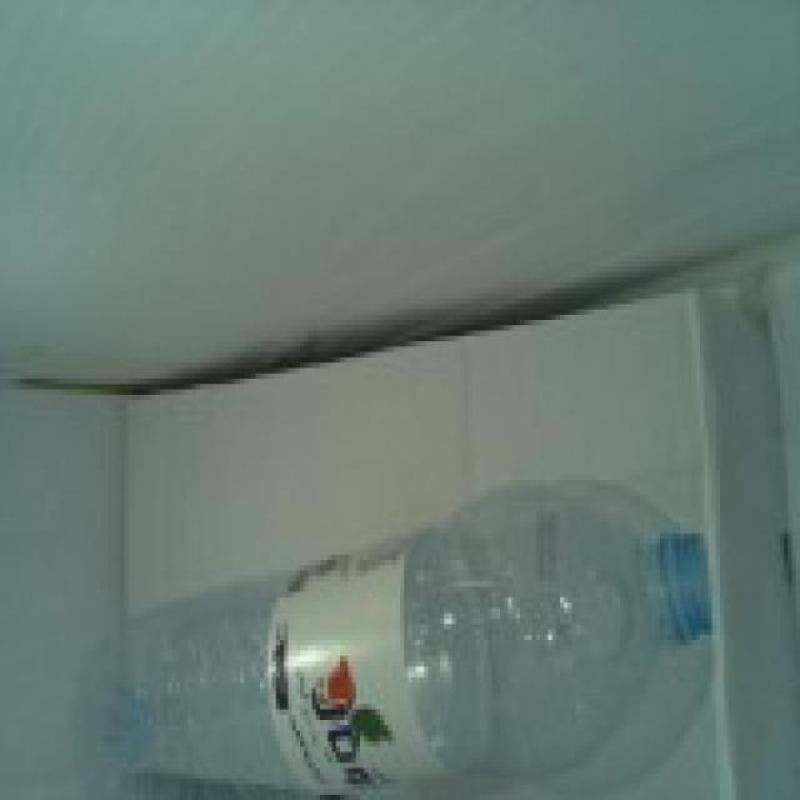botella: (77, 482, 714, 800)
